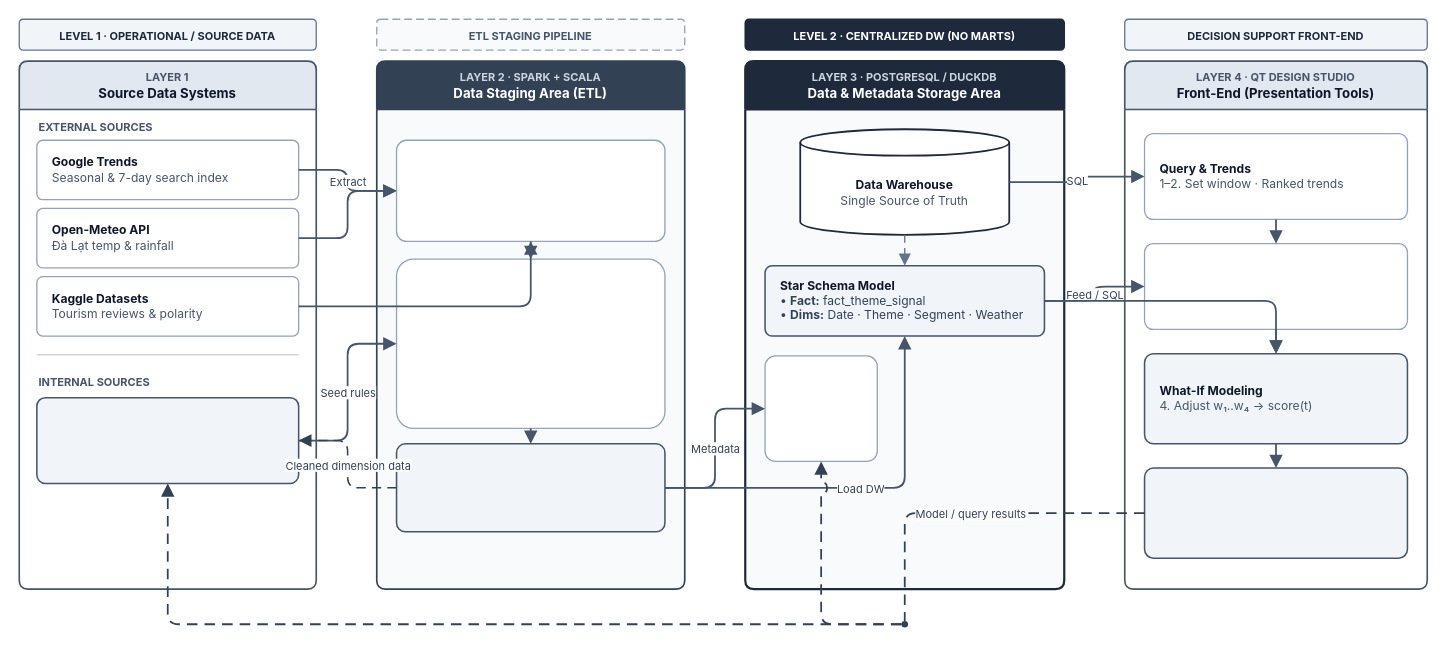
This 1448x656 diagram has some shape labels left out. Each missing label, with the centre of its shape:
"Clean, preprocess Ingest Deduplicate Filter for Đà Lạt" belongs at [530,190].
"Drill-Down Analysis 3. Keywords · Segment · Weather" belongs at [1275,286].
"Metadata Repository Schemas · Lineage · Scoring rules" belongs at [820,408].
"Reports & Briefs 5. Top 1–3 themes · Visual export" belongs at [1275,512].
"Theme & Segment Config Keywords · Weather rules · Feedback" belongs at [167,440].
"Transform & derive Reconcile Match keywords Normalize score [0,1]" belongs at [530,343].
"Upsert Facts, Dims & Metadata" belongs at [530,487].
